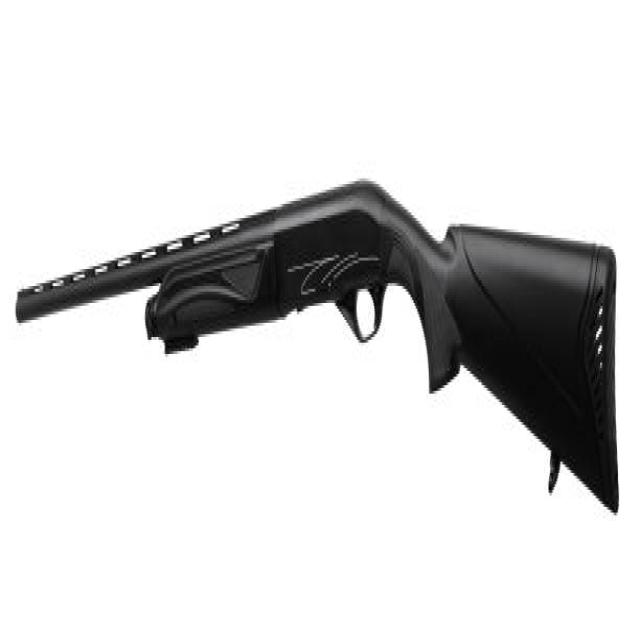rifle: (8, 174, 625, 523)
